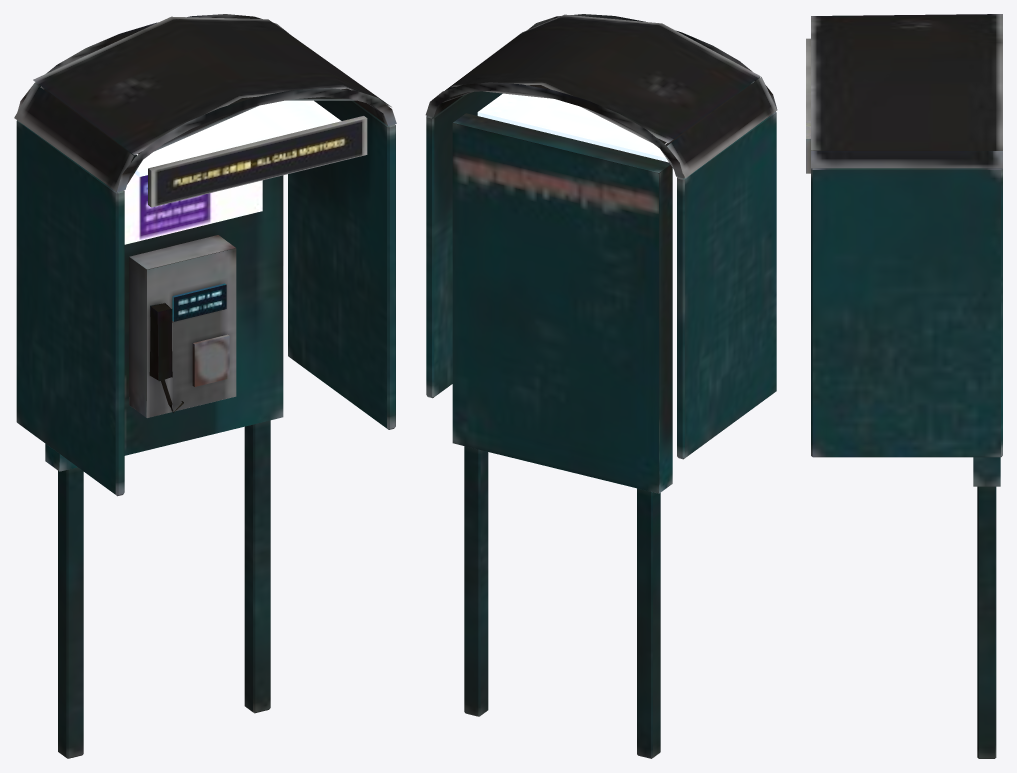
Rendered from phone_kiosk_lod1.glb.
The picture shows the model from 3 angles, left to right: view 1: azimuth 30°, elevation 25°; view 2: azimuth 150°, elevation 25°; view 3: azimuth 270°, elevation 25°; orthographic projection. The views are drawn at different scales.
Visible parts, largest first — view 1: phone_kiosk; view 2: phone_kiosk; view 3: phone_kiosk.
Part boxes in pixels (x1,y1,x2,y2): phone_kiosk: [14, 14, 396, 758]; phone_kiosk: [425, 14, 777, 758]; phone_kiosk: [806, 14, 1002, 758].
Size of what is drawn, in the model's own units: 0.9655 by 2.31 by 0.615.
Materials: 1 (1 with a texture image).
